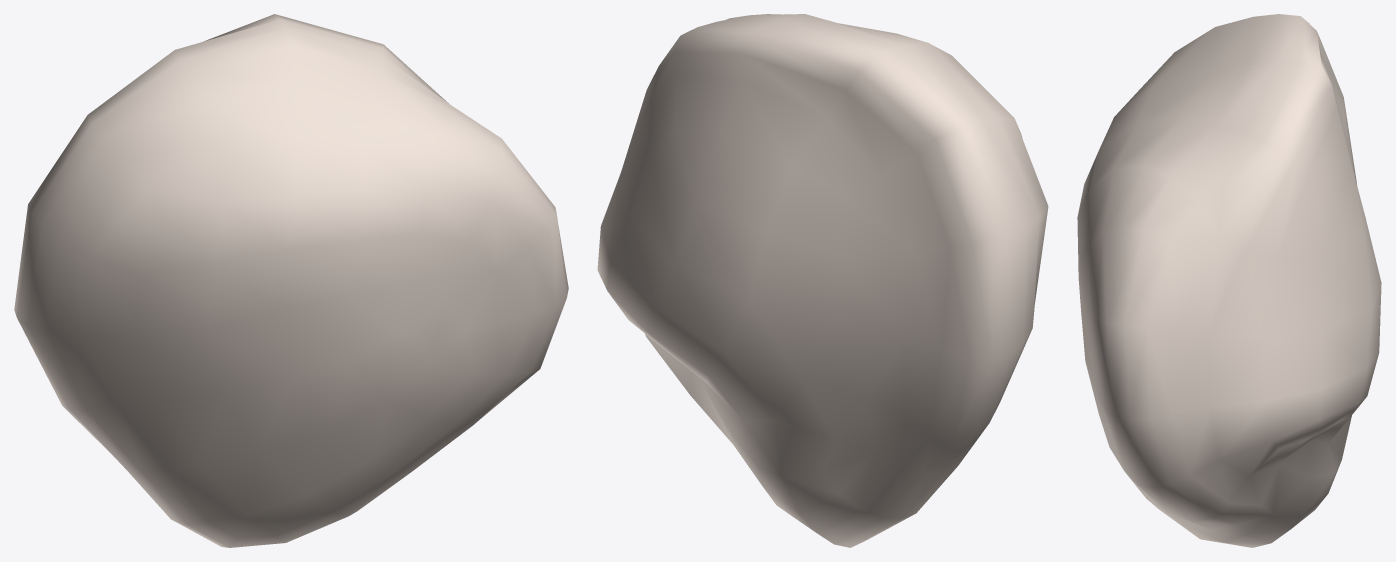
Rendered from frau2-1016.glb.
3 views of the same model, side by side, from view 1: azimuth 30°, elevation 25°; view 2: azimuth 150°, elevation 25°; view 3: azimuth 270°, elevation 25° (orthographic). The views are drawn at different scales.
Visible parts, largest first — view 1: VH_F_patella_R; view 2: VH_F_patella_R; view 3: VH_F_patella_R.
Part boxes in pixels (<box>): VH_F_patella_R: <box>14,14,568,547</box>; VH_F_patella_R: <box>597,14,1048,547</box>; VH_F_patella_R: <box>1077,14,1381,547</box>.
Bounding box in the file's own units: 0.0455 × 0.0472 × 0.0262.
